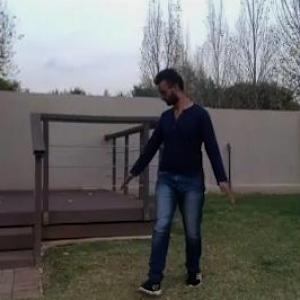land: (102, 57, 242, 299)
